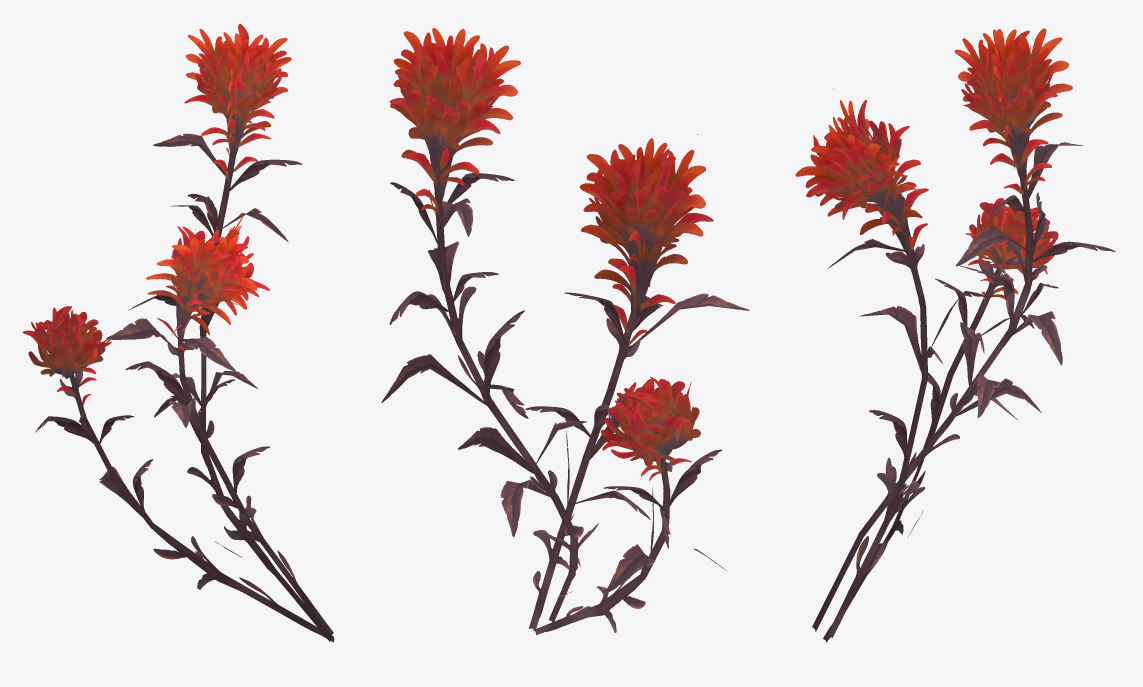
3 renders of one model, left to right at view 1: azimuth 30°, elevation 25°; view 2: azimuth 150°, elevation 25°; view 3: azimuth 270°, elevation 25°, orthographic. The views are drawn at different scales.
Size of the model in its own units: 2.62 by 5.31 by 2.56.
Materials: 1 (1 with a texture image).
